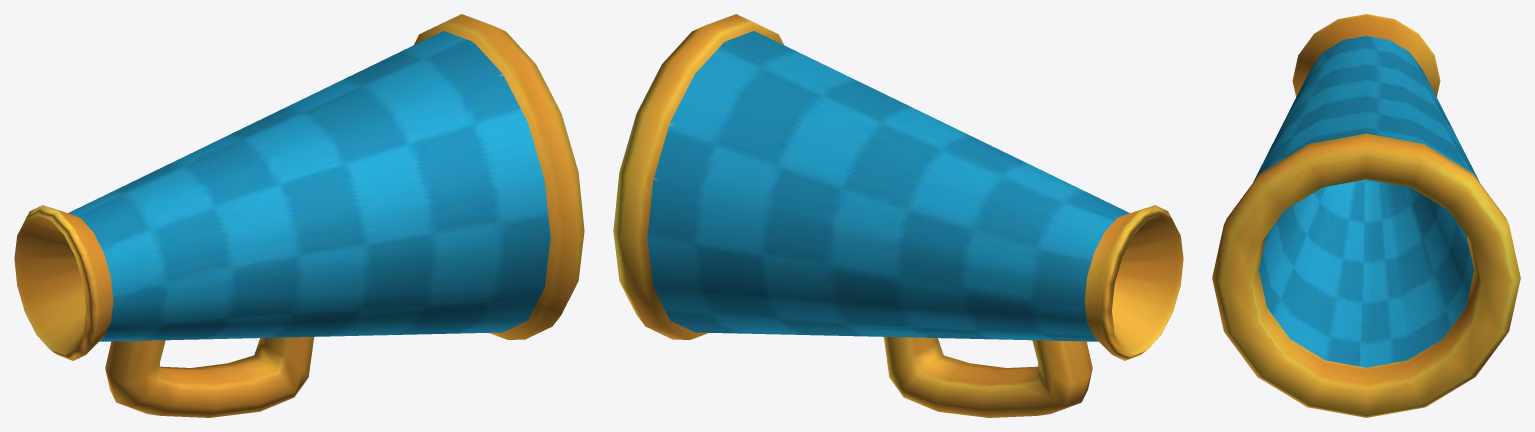
File: 0-megaphone_blue.fbx
The picture shows the model from 3 angles, left to right: view 1: azimuth 30°, elevation 25°; view 2: azimuth 150°, elevation 25°; view 3: azimuth 270°, elevation 25°; orthographic projection. The views are drawn at different scales.
Parts seen in each view (by area): view 1: 0-megaphone_blue; view 2: 0-megaphone_blue; view 3: 0-megaphone_blue.
Part boxes in pixels (<box>): 0-megaphone_blue: <box>14,14,584,417</box>; 0-megaphone_blue: <box>613,14,1183,417</box>; 0-megaphone_blue: <box>1212,14,1520,417</box>.
Size of the model in its own units: 91.03 by 61.87 by 57.59.
